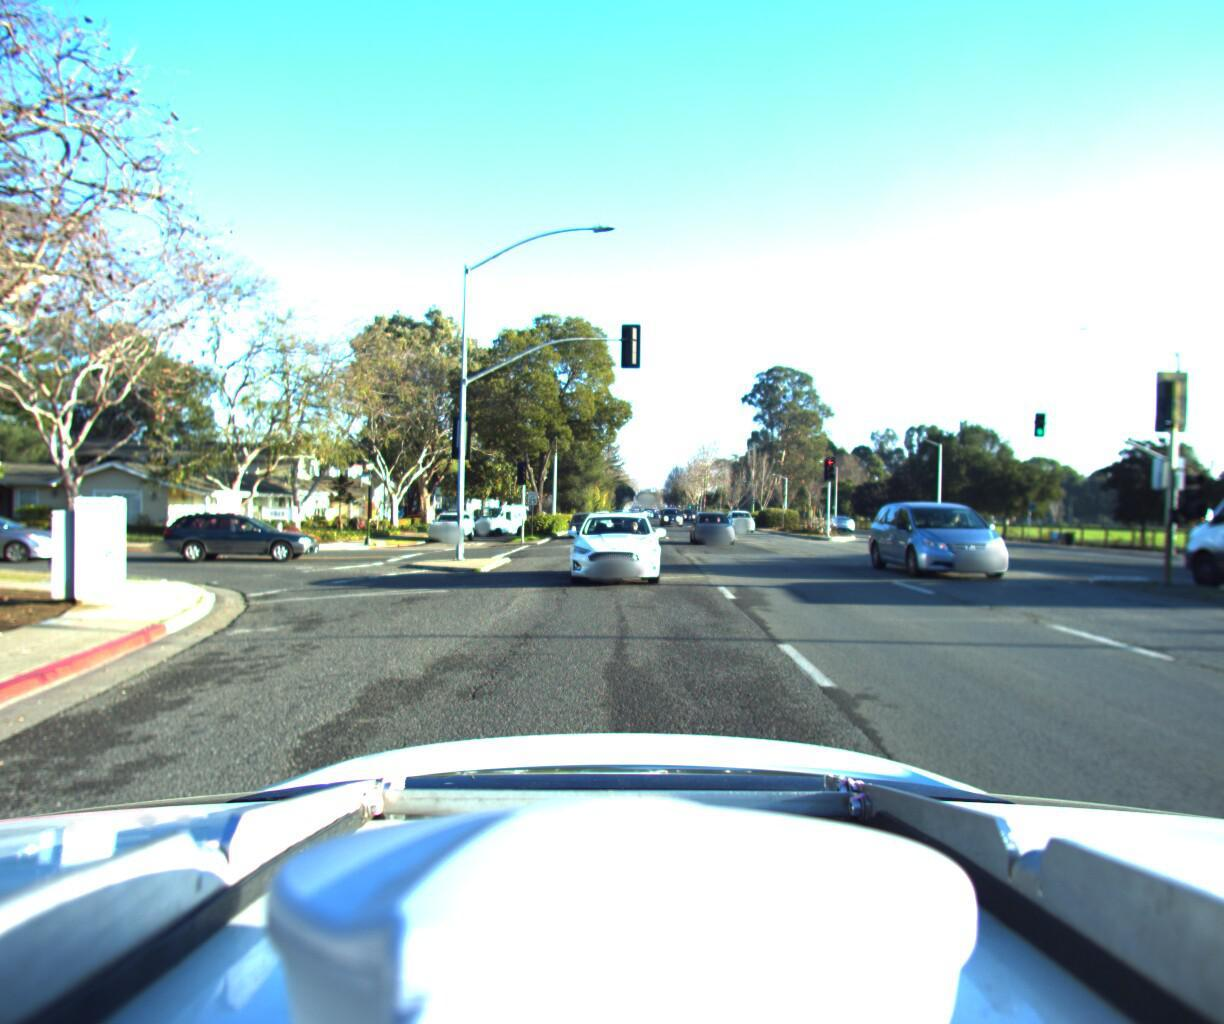car: (876, 493, 1051, 585), (154, 507, 324, 563), (562, 506, 660, 586), (0, 508, 79, 563), (421, 503, 476, 538), (688, 504, 738, 541), (0, 505, 35, 552), (564, 499, 600, 530), (726, 501, 759, 525), (401, 503, 442, 521), (590, 500, 616, 521), (661, 500, 686, 519), (822, 507, 850, 523)
other_vehicle: (1158, 448, 1224, 626)
truck: (468, 501, 528, 530)
